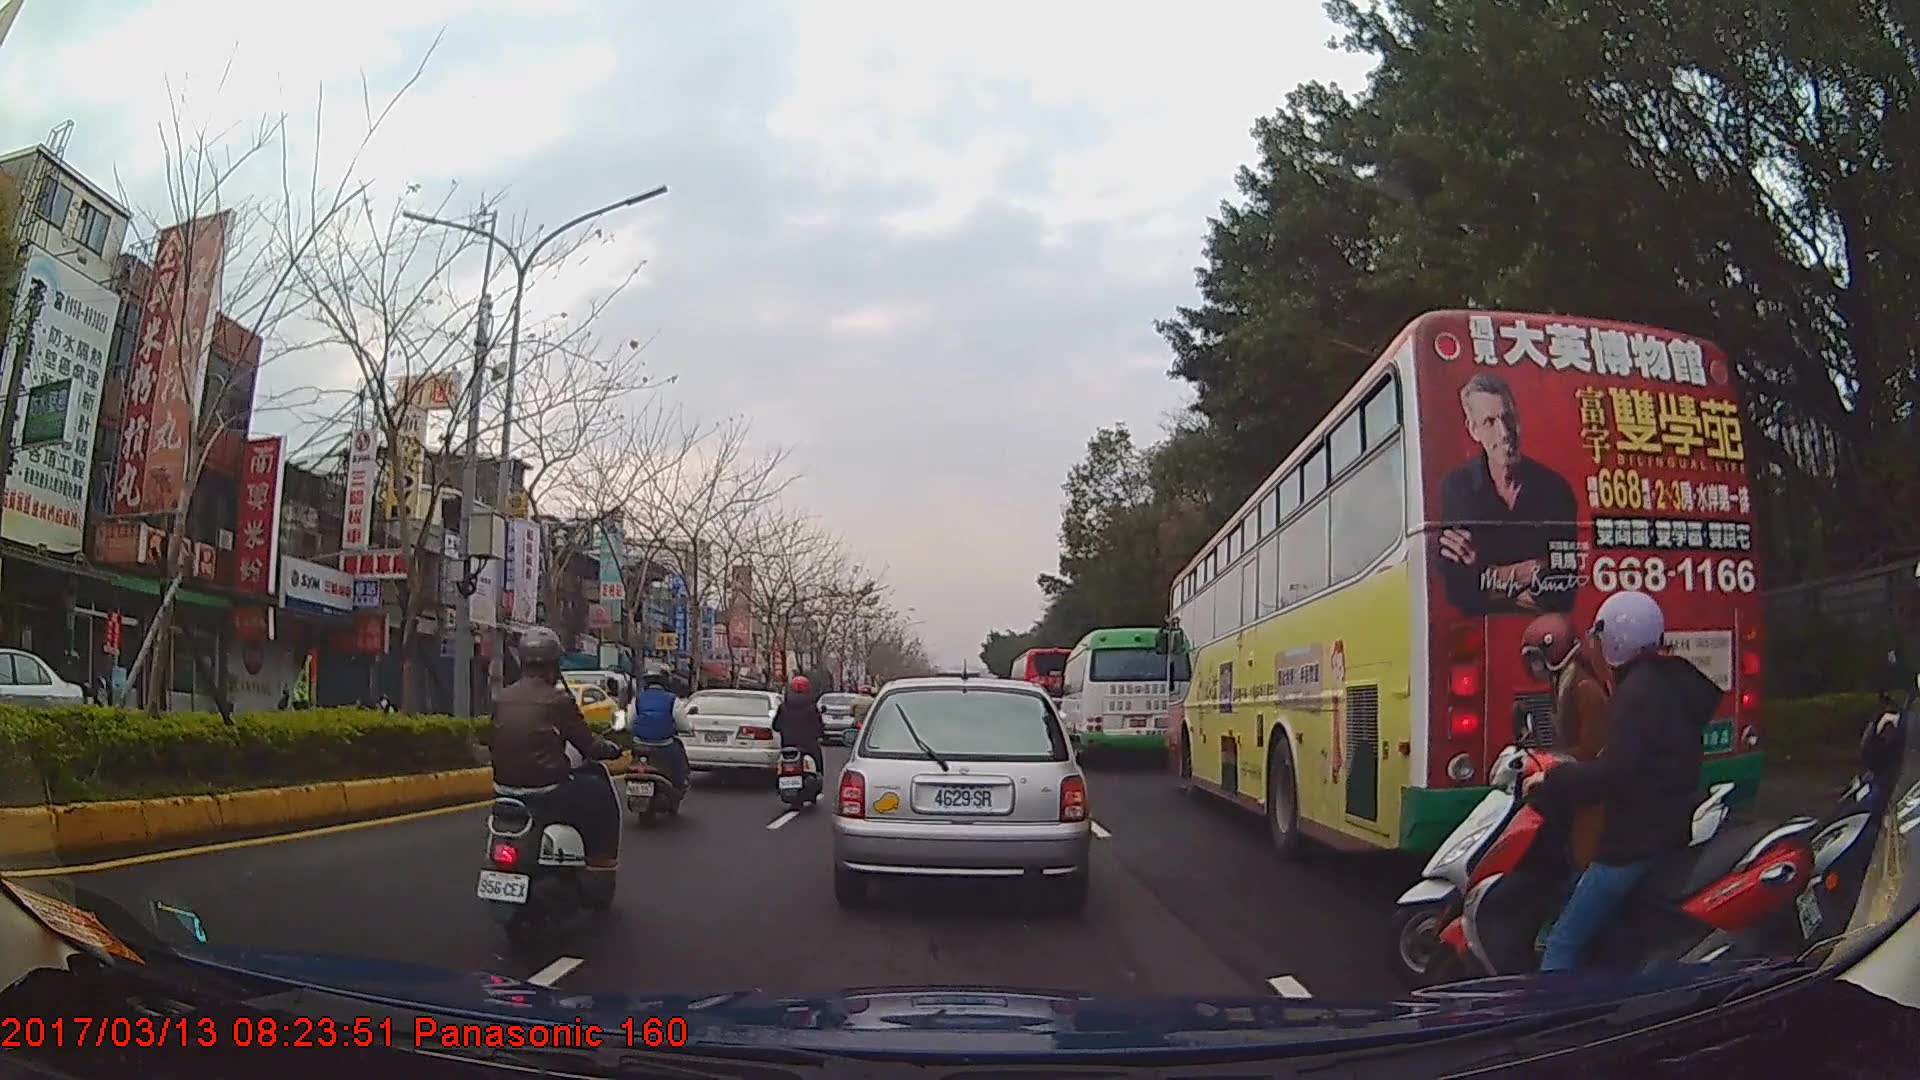rider: (1438, 578, 1834, 1051), (1372, 599, 1730, 992), (1791, 545, 1920, 977), (480, 623, 623, 950), (621, 659, 695, 829), (767, 673, 826, 810), (849, 681, 879, 753)
vehicle: (1165, 305, 1764, 867), (834, 673, 1091, 906), (1055, 626, 1184, 765), (671, 687, 811, 786), (0, 644, 81, 762), (501, 674, 619, 747), (1006, 645, 1089, 731)
